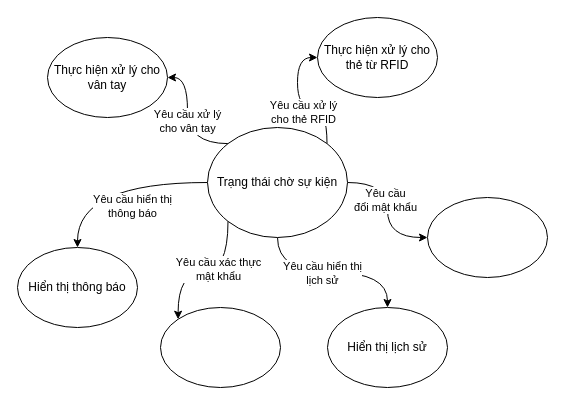
Image size: 565x405. Some labels were removed from this diagram. The centre of each missing label's shape, as x and y in pixels:
"Thực hiện đổi mật khẩu" goes at pixel 487 237.
"Xác thực mật khẩu" goes at pixel 220 347.
